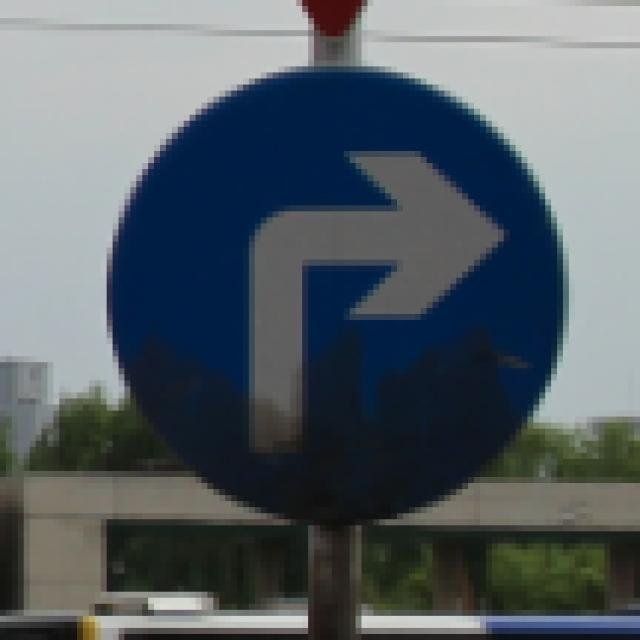right: (116, 67, 542, 516)
